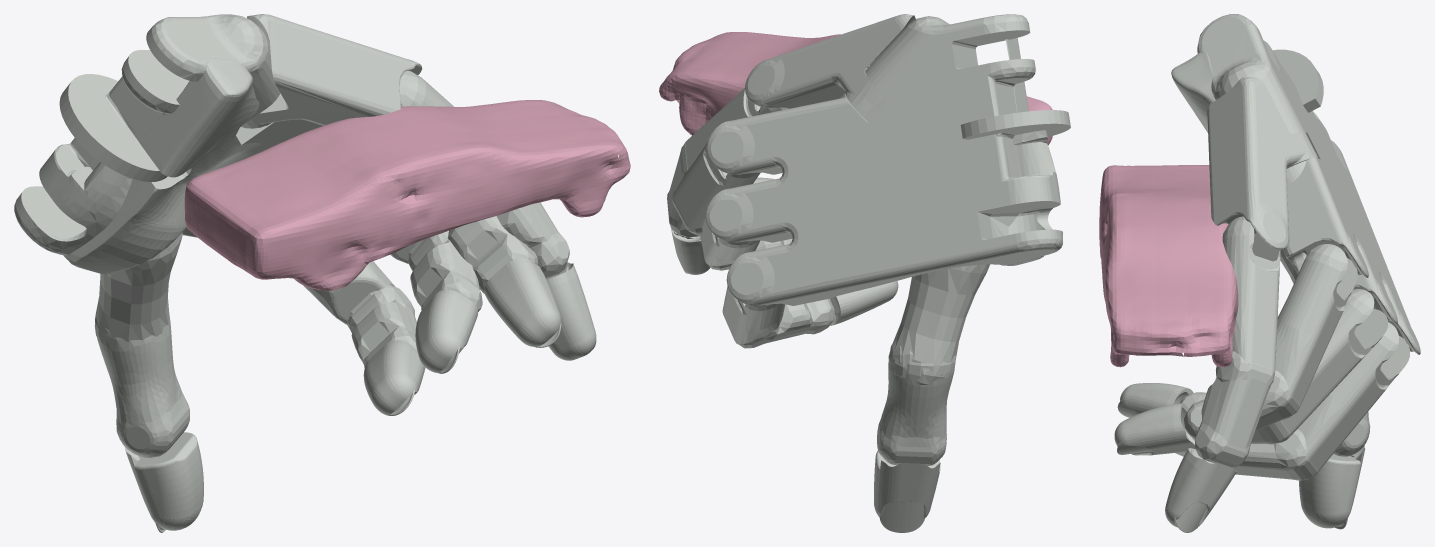
The picture shows the model from 3 angles, left to right: view 1: azimuth 30°, elevation 25°; view 2: azimuth 150°, elevation 25°; view 3: azimuth 270°, elevation 25°; orthographic projection. The views are drawn at different scales.
Parts seen in each view (by area): view 1: hand, world; view 2: hand, world; view 3: hand, world.
Boxes of the visible parts, x1,y1,x2,y2 form: hand: [14, 14, 596, 532]; world: [184, 100, 630, 291]; hand: [667, 14, 1070, 532]; world: [659, 32, 1052, 145]; hand: [1114, 14, 1420, 532]; world: [1099, 165, 1238, 367].
Bounding box in the file's own units: 0.1706 × 0.1793 × 0.1073.
